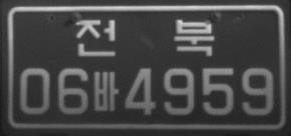0: (18, 67, 51, 115)
4: (124, 67, 155, 115)
5: (201, 66, 234, 115)
6: (56, 67, 89, 114)
9: (239, 67, 274, 116), (163, 68, 195, 115)
바: (92, 70, 118, 111)
전북_D: (75, 18, 215, 57)
